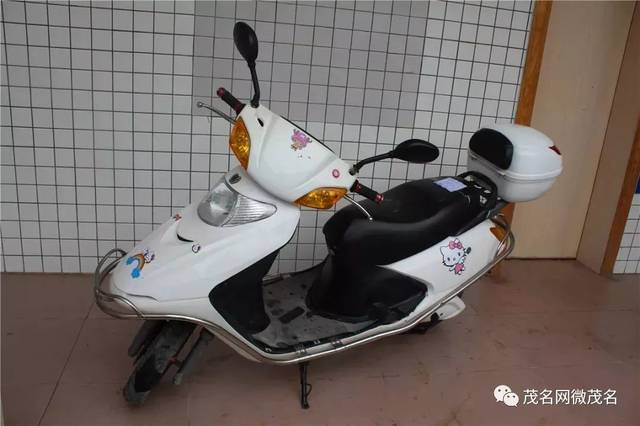电动车: (95, 16, 570, 409)
